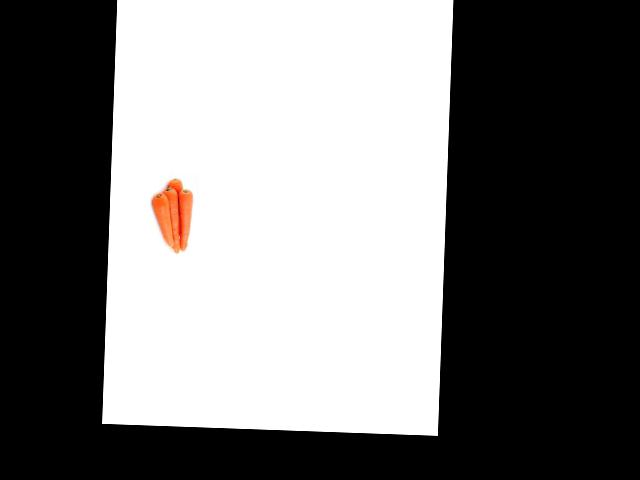carrot: (150, 191, 170, 249)
